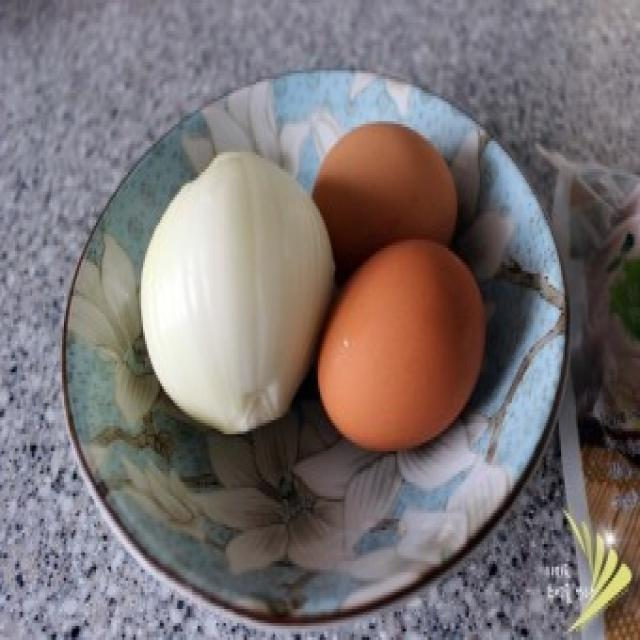onion: (137, 144, 336, 438)
